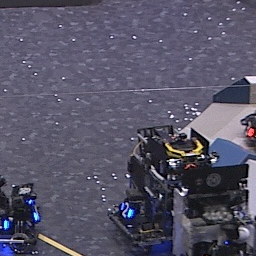Blue: (120, 202, 134, 219)
Robot: (106, 123, 213, 251), (172, 168, 256, 256), (1, 177, 44, 251)
